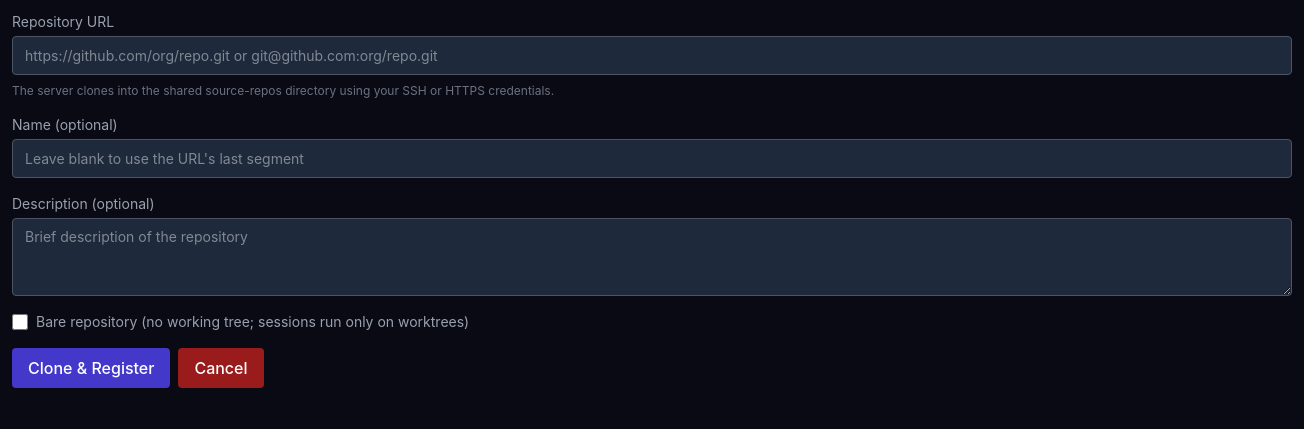
Test case: CloneFromUrlForm › validation › blocks submission when URL is shaped wrongly
In the field with placeholder "https://github.com": coordinates (652, 56) [12,36,1292,75], type "--upload-pack=evil"
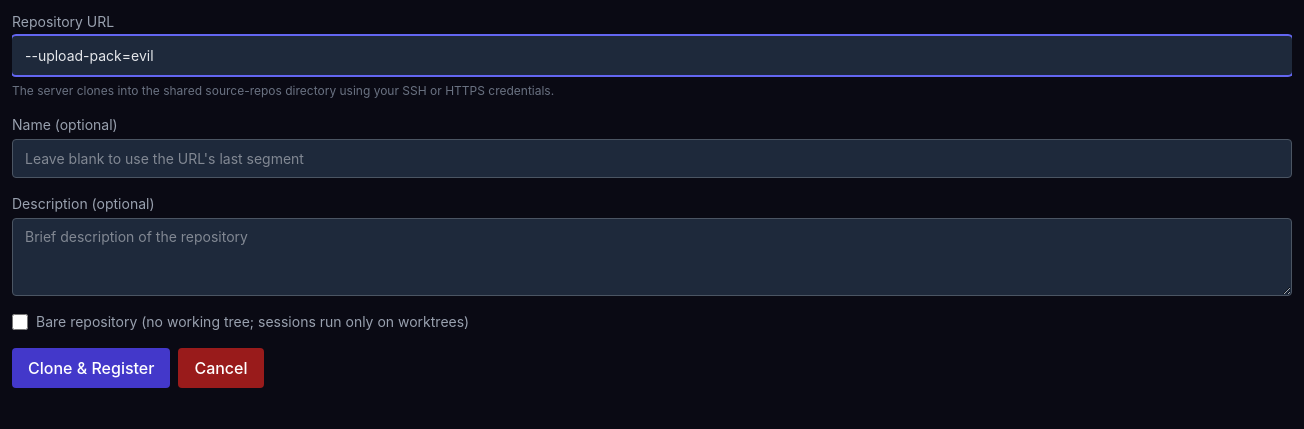
Click the button "Clone & Register": coordinates (91, 368) [12,348,170,388]
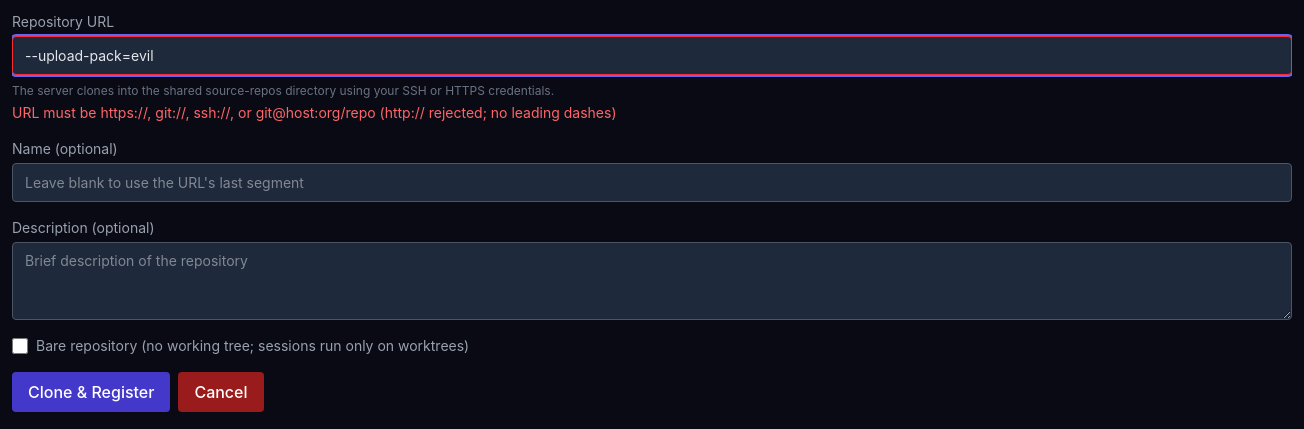
Expected: the text "URL must be https://" is shown, [12,104,616,121]
